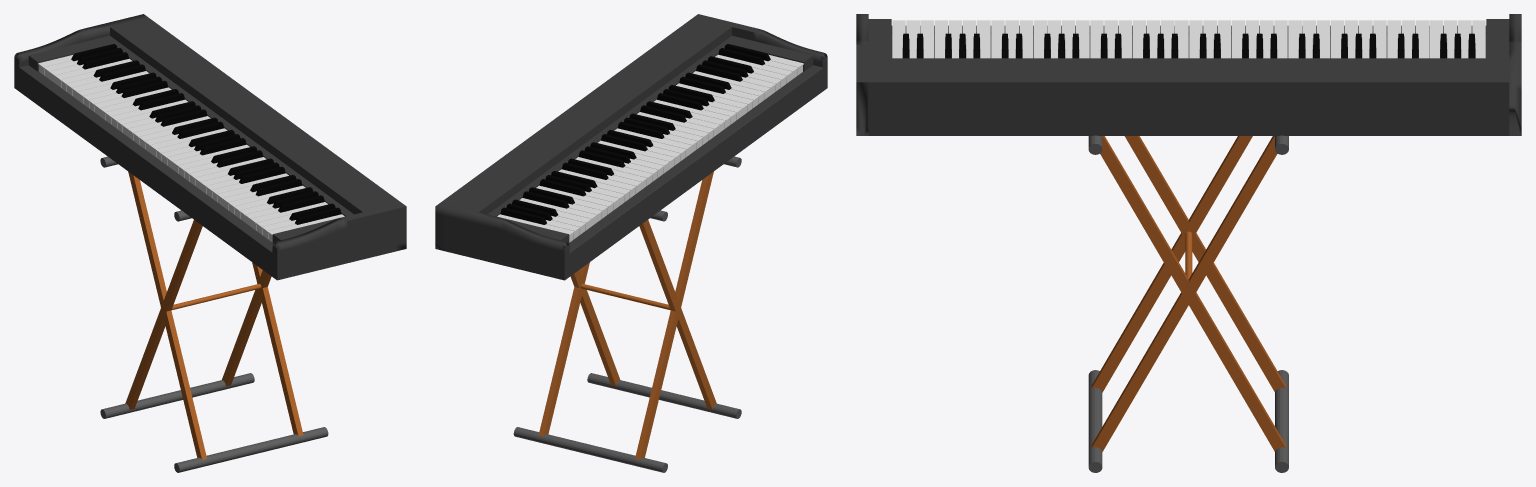
Rendered from piano.fbx.
3 renders of one model, left to right at view 1: azimuth 30°, elevation 25°; view 2: azimuth 150°, elevation 25°; view 3: azimuth 270°, elevation 25°, orthographic. The views are drawn at different scales.
Parts seen in each view (by area): view 1: Cylinder, Cylinder.016, Cylinder.006, Cylinder.023; view 2: Cylinder, Cylinder.024, Cylinder.031, Cylinder.007, Cylinder.014; view 3: Cylinder.
Part boxes in pixels (bbox=[...]): Cylinder: bbox=[14, 14, 406, 472]; Cylinder.016: bbox=[110, 99, 187, 128]; Cylinder.006: bbox=[54, 58, 132, 87]; Cylinder.023: bbox=[150, 128, 227, 156]; Cylinder: bbox=[435, 14, 827, 472]; Cylinder.024: bbox=[614, 128, 692, 157]; Cylinder.031: bbox=[654, 99, 731, 128]; Cylinder.007: bbox=[519, 198, 596, 226]; Cylinder.014: bbox=[558, 169, 636, 197]; Cylinder: bbox=[856, 14, 1521, 472].
Bounding box in the file's own units: 309 × 599 × 945.
